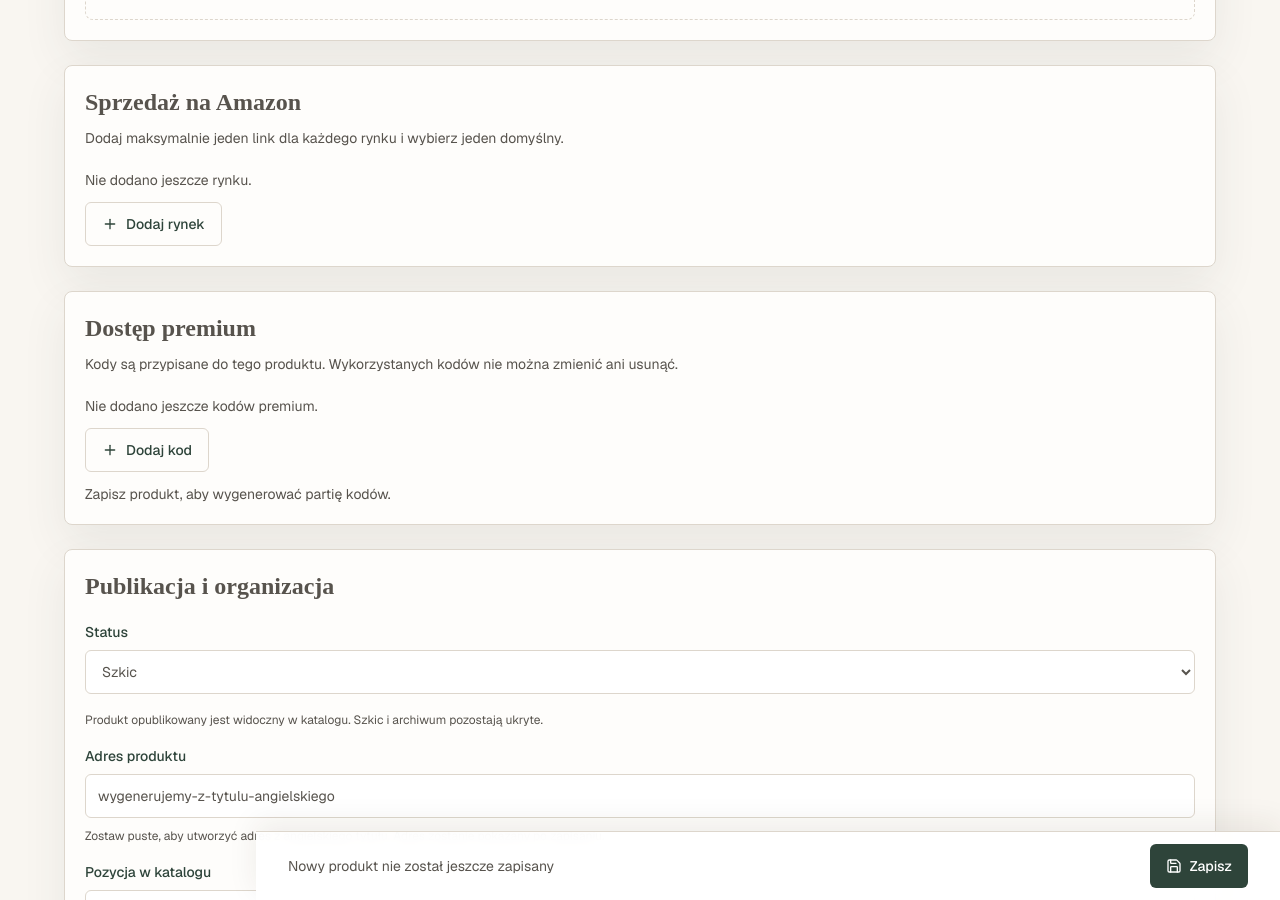
it: ProductEditor V2 › marks the only submitted premium code invalid for an existing-code conflict
(page scrolled)
Click the button "Dodaj kod": (147, 450) [85, 428, 209, 472]
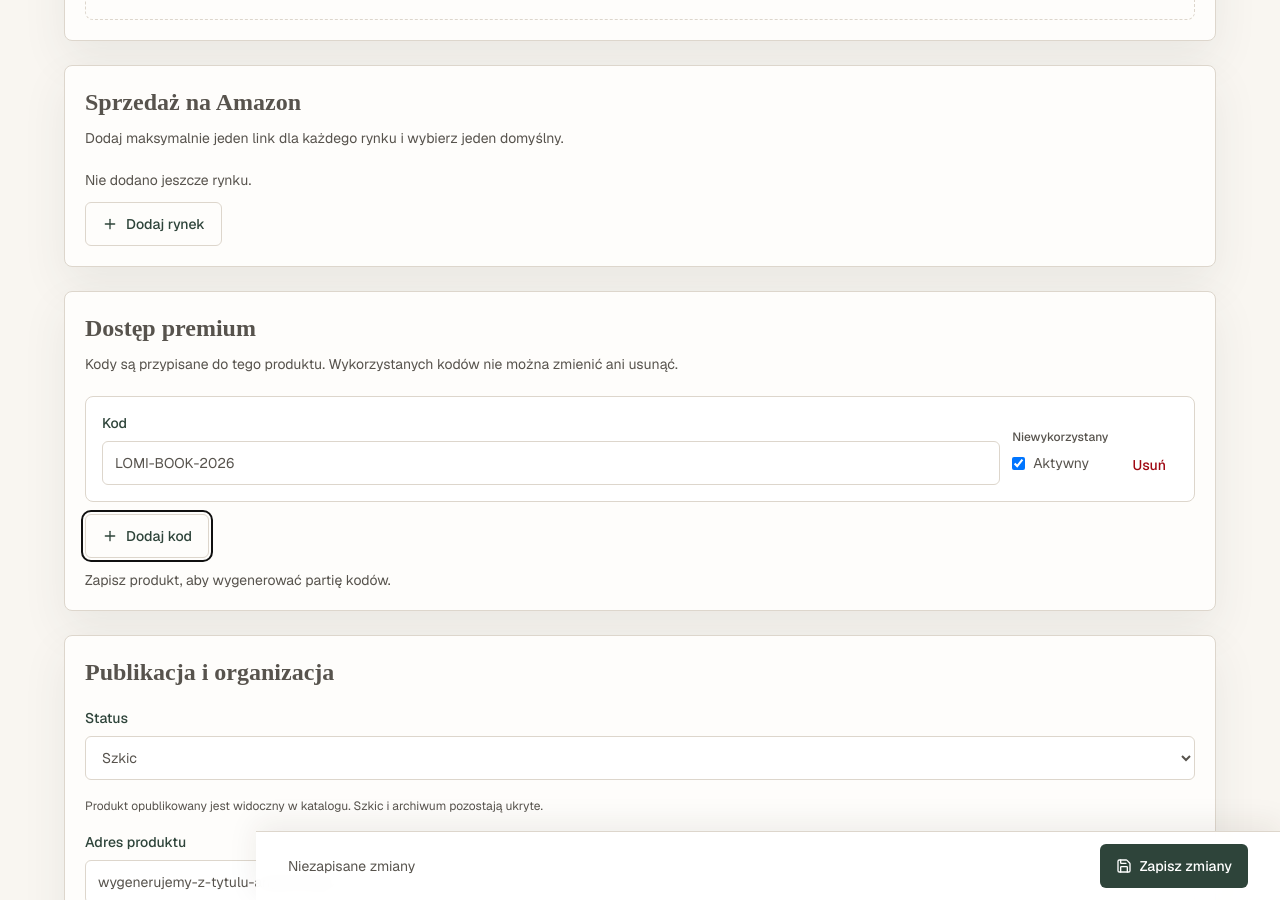
In the field labelled "Kod": (551, 463) [102, 441, 1000, 485], type "LOMI-TAKEN"
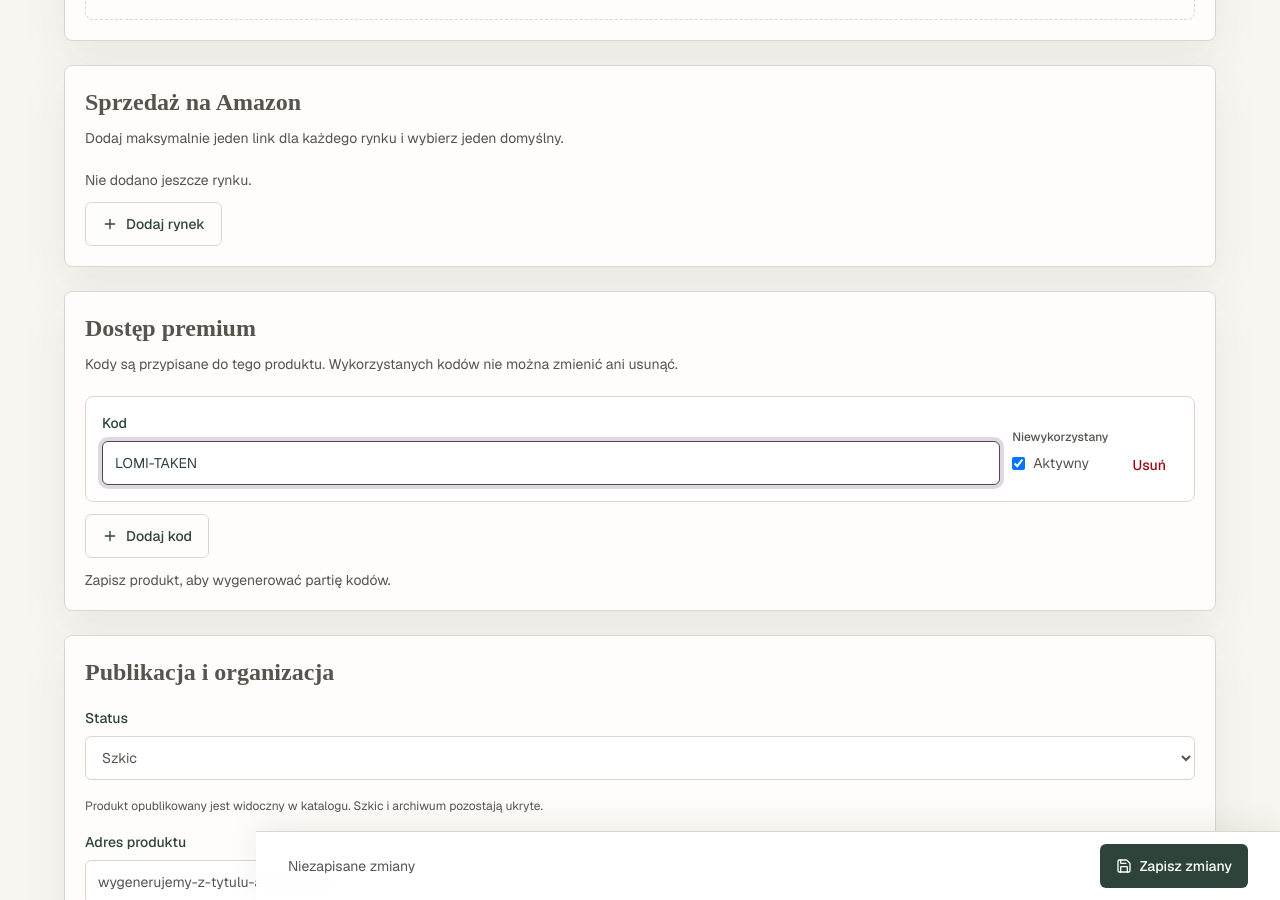
Click the button "Zapisz zmiany": (1174, 866) [1100, 844, 1248, 888]
(page scrolled)
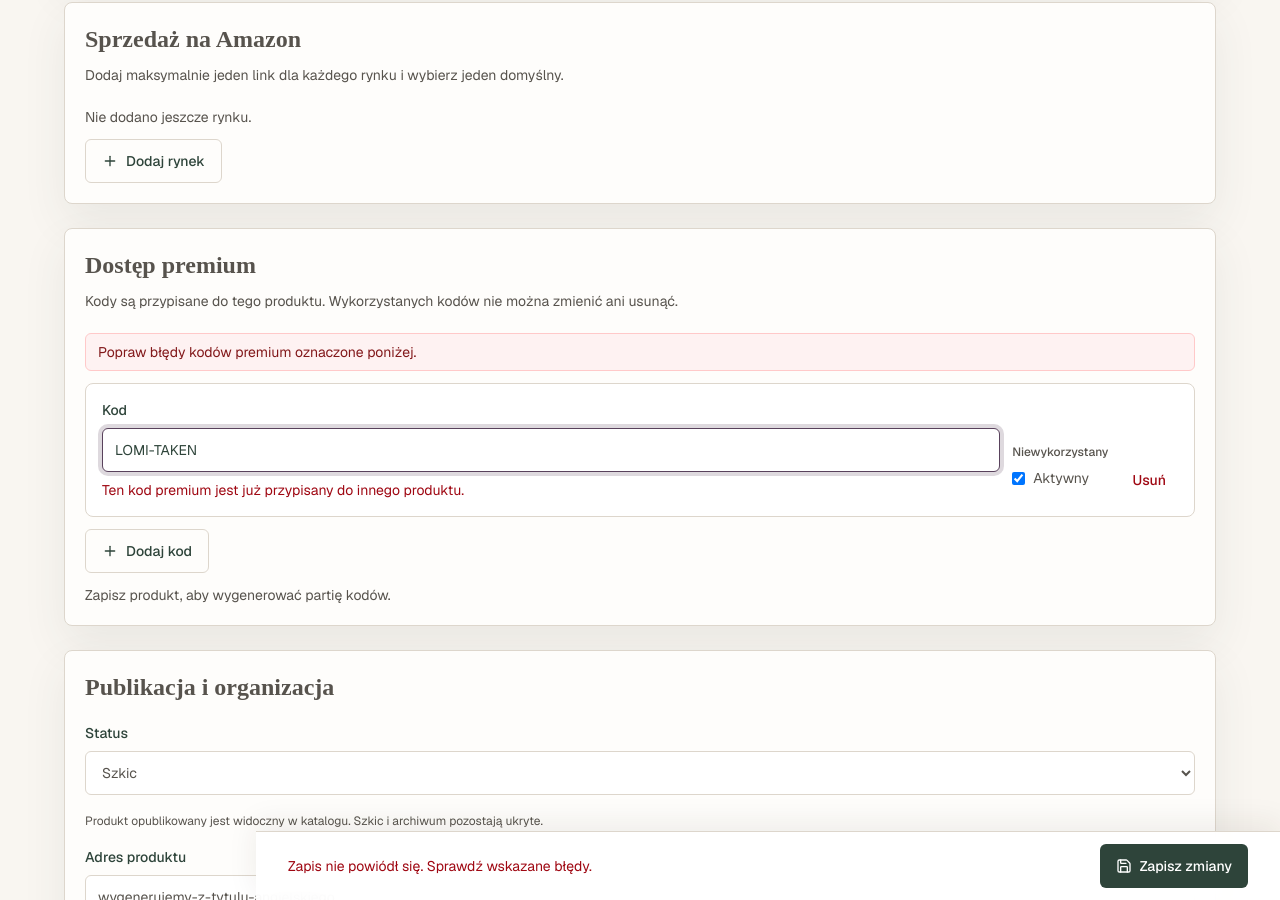
Expected: the text "Ten kod premium jest już przypisany do innego produktu." is shown 2 times
